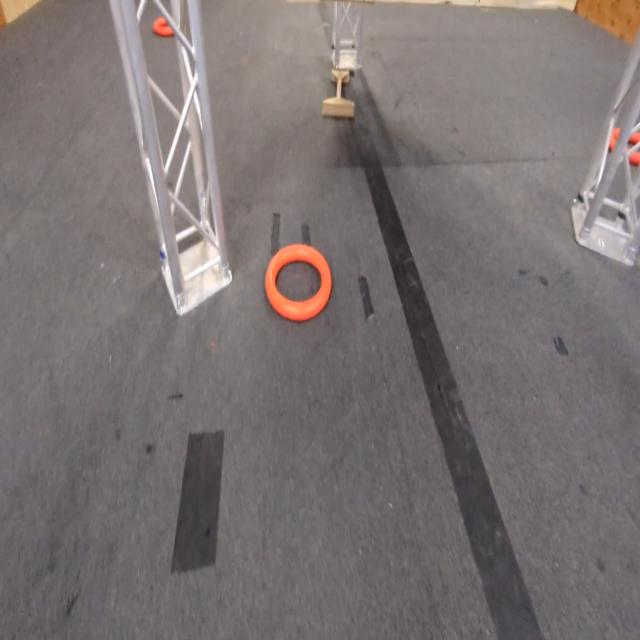note: (263, 246, 330, 320), (608, 124, 640, 168), (153, 17, 175, 39)
